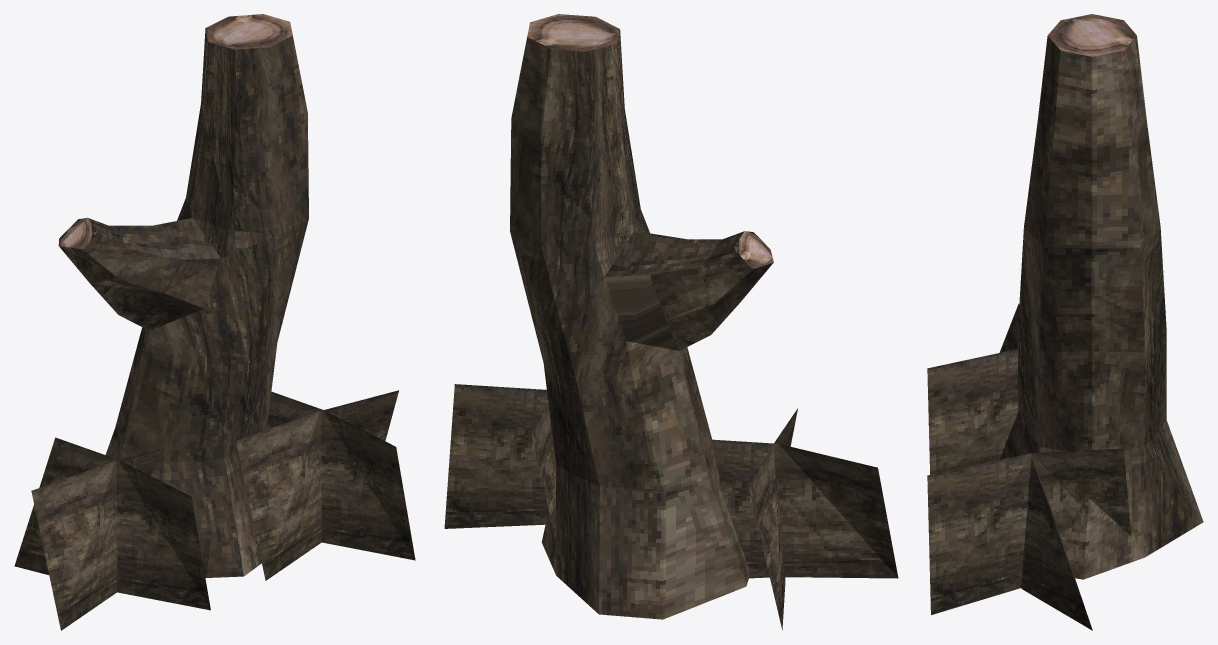
Rendered from dead_tree_19.obj.
3 renders of one model, left to right at view 1: azimuth 30°, elevation 25°; view 2: azimuth 150°, elevation 25°; view 3: azimuth 270°, elevation 25°, orthographic. The views are drawn at different scales.
Visible parts, largest first — view 1: DEAD_TREE_19; view 2: DEAD_TREE_19; view 3: DEAD_TREE_19.
Boxes of the visible parts, x1,y1,x2,y2 form: DEAD_TREE_19: (14, 14, 415, 630); DEAD_TREE_19: (444, 14, 898, 629); DEAD_TREE_19: (927, 14, 1203, 630).
Bounding box in the file's own units: 3.23 × 4 × 1.88.
Materials: 3 (3 with a texture image).
